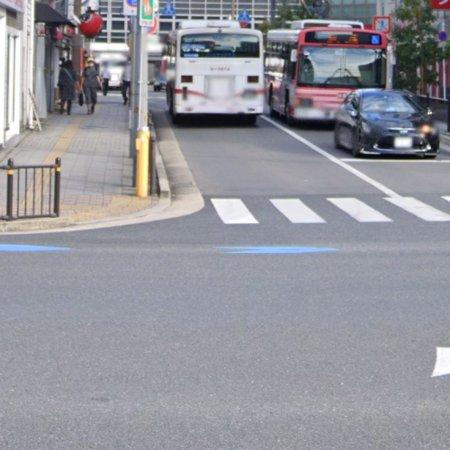crosswalks: (209, 192, 450, 226)
